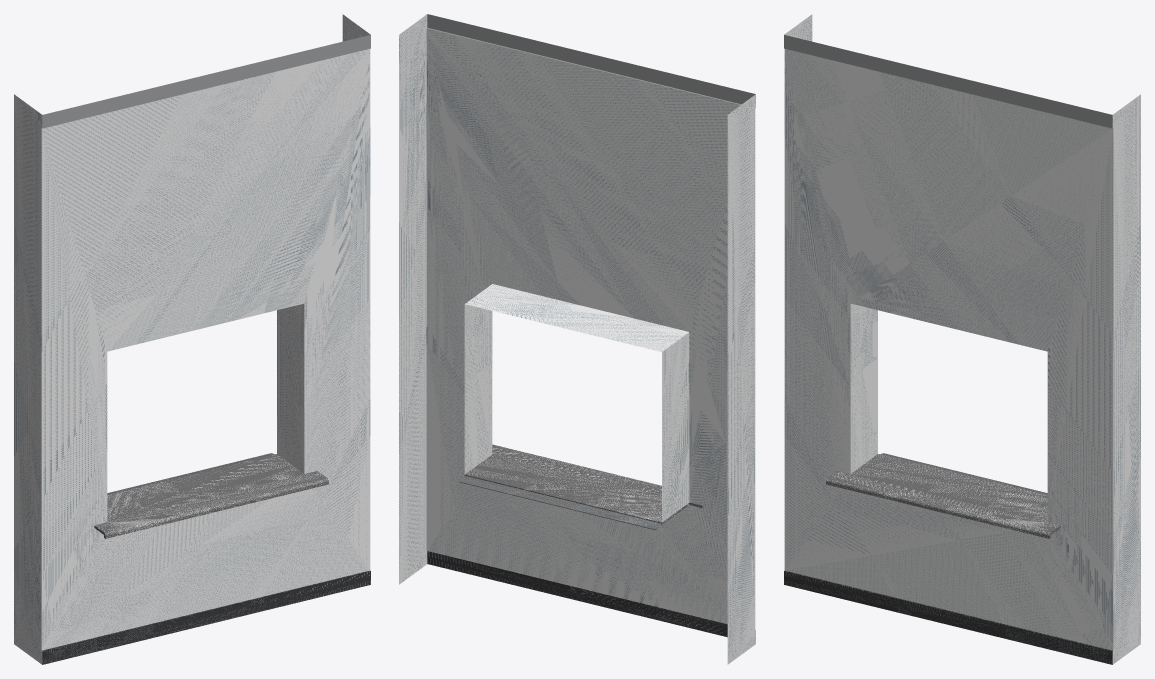
Rendered from WindowBlock_os_plinth_[250x400]_150x124x[090].dae.
3 renders of one model, left to right at view 1: azimuth 30°, elevation 25°; view 2: azimuth 150°, elevation 25°; view 3: azimuth 330°, elevation 25°, orthographic.
Visible parts, largest first — view 1: group_2 (×4), group_1; view 2: group_2 (×4), group_1 (×2); view 3: group_2 (×4), group_1.
Boxes of the visible parts, bbox=[...] form: group_2 (×4): bbox=[14, 14, 370, 664]; group_1: bbox=[94, 454, 328, 538]; group_2 (×4): bbox=[399, 14, 755, 664]; group_1 (×2): bbox=[459, 444, 702, 530]; group_2 (×4): bbox=[784, 14, 1140, 664]; group_1: bbox=[826, 454, 1060, 538].
Bounding box in the file's own units: 98.43 × 23.03 × 157.
